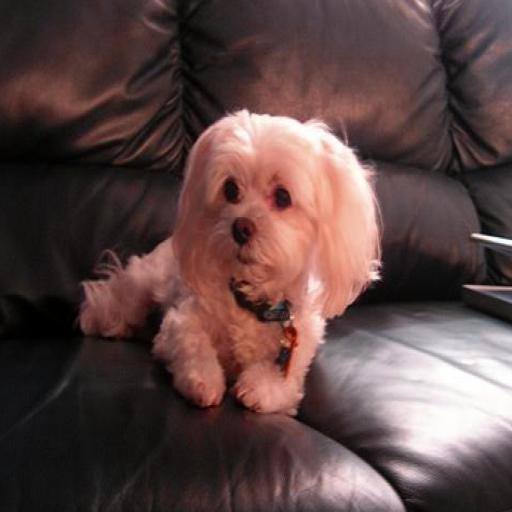dog_face: (186, 119, 338, 290)
